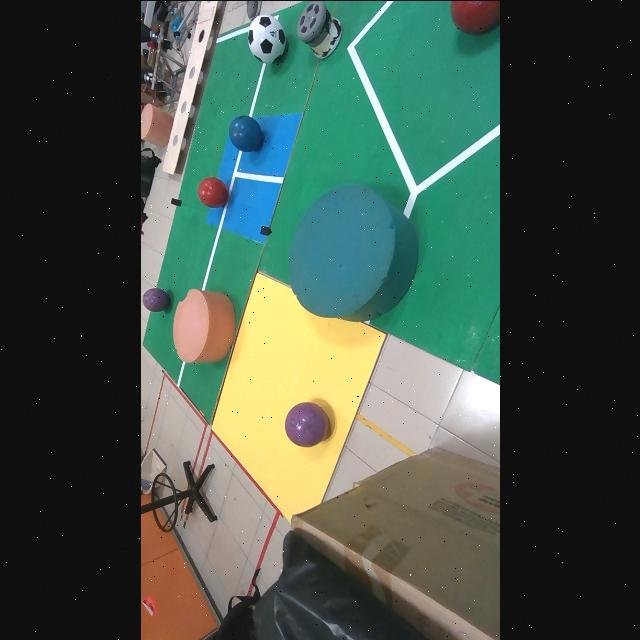B: (228, 114, 263, 151)
P: (284, 402, 329, 446), (141, 287, 168, 311)
R: (450, 0, 500, 33), (196, 176, 228, 207)
